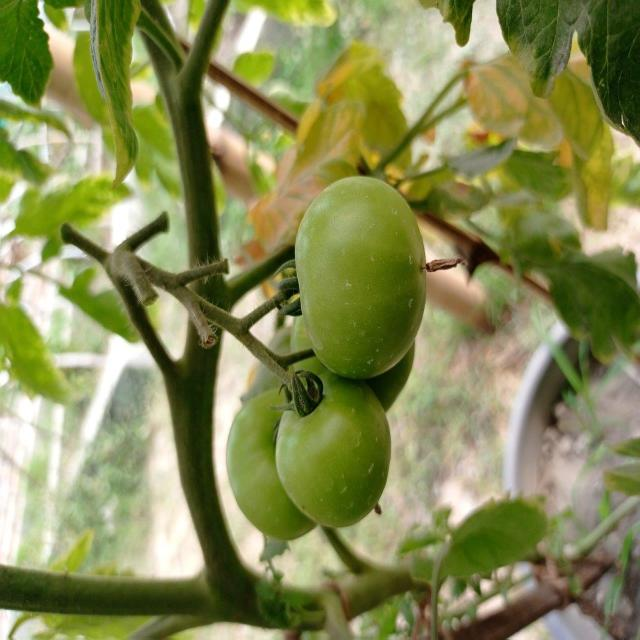Unripe: (295, 175, 428, 380), (274, 376, 393, 533)
